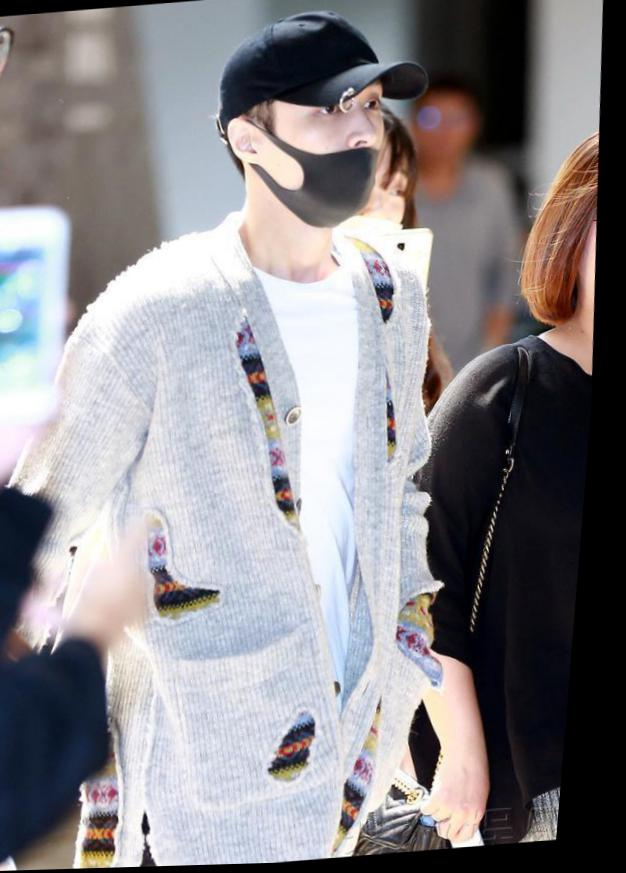WRONG: (269, 80, 393, 232)
